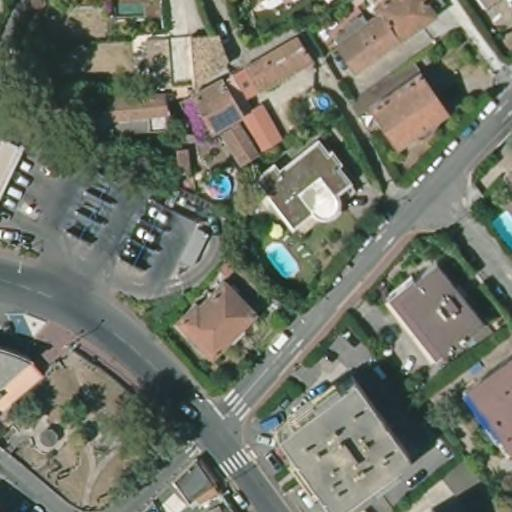pool: (263, 238, 299, 280), (199, 167, 236, 200)
